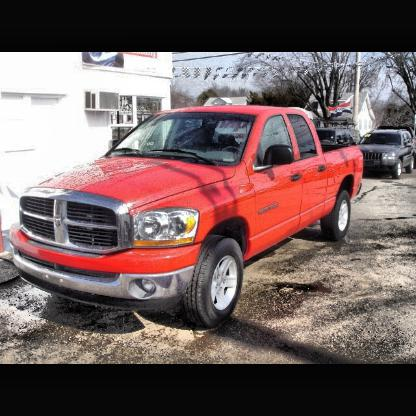Dodge Ram Pickup 3500 Quad Cab 2009: (11, 107, 365, 327)
